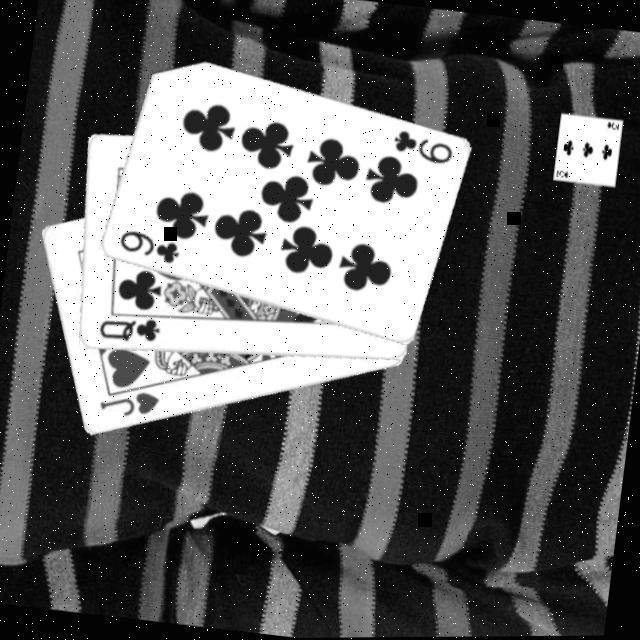9C: (387, 124, 458, 168), (114, 225, 185, 268)
JH: (95, 382, 164, 423)
QC: (95, 309, 164, 347)
